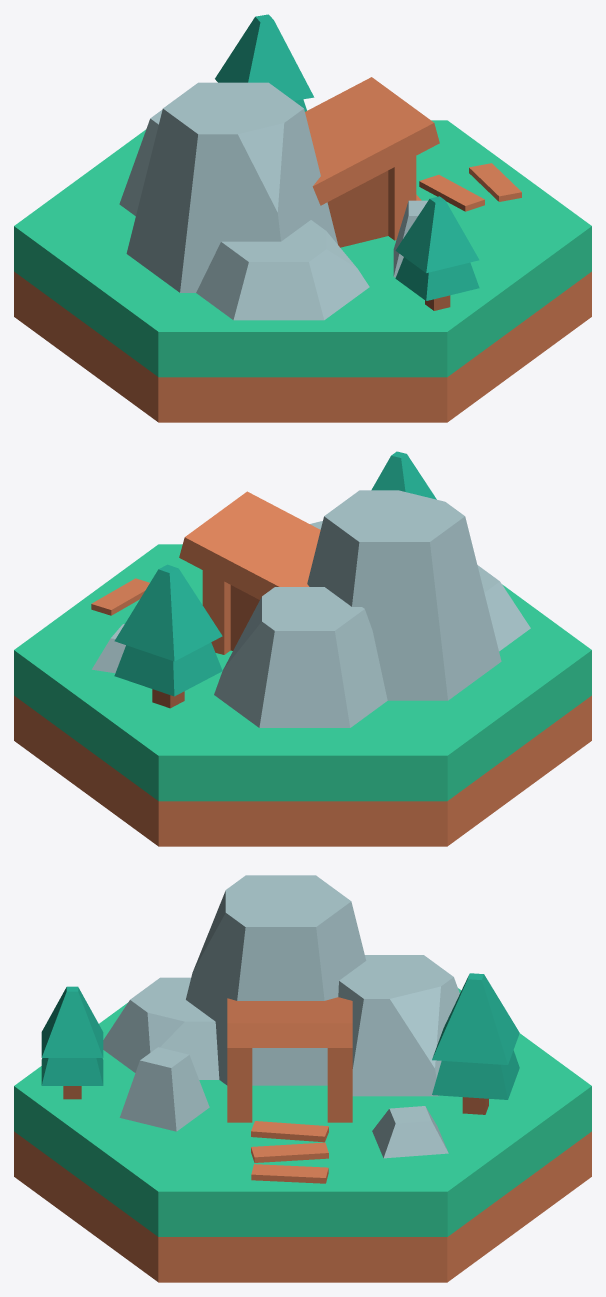
The model's file is building_mine.dae.
The picture shows the model from 3 angles, top to bottom: view 1: azimuth 30°, elevation 25°; view 2: azimuth 150°, elevation 25°; view 3: azimuth 270°, elevation 25°; orthographic projection.
Visible parts, largest first — view 1: building_mine, rockLarge, mine, tree (×2), path, rock; view 2: building_mine, rockLarge, mine, tree (×2), path, rock; view 3: building_mine, rockLarge, tree (×2), mine, rock (×2), path.
Boxes of the visible parts, x1,y1,x2,y2 form: building_mine: (14,120,591,422); rockLarge: (119,82,369,320); mine: (305,77,439,247); tree (×2): (215,14,479,310); path: (416,163,521,211); rock: (393,200,427,277); building_mine: (14,544,591,846); rockLarge: (214,490,530,727); mine: (179,491,320,654); tree (×2): (114,451,436,708); path: (91,578,149,615); rock: (92,624,125,673); building_mine: (14,988,591,1282); rockLarge: (103,875,459,1096); tree (×2): (41,973,519,1114); mine: (227,997,352,1122); rock (×2): (119,1047,448,1158); path: (251,1121,328,1183).
Bounding box in the file's own units: 1 × 0.5204 × 1.15.
